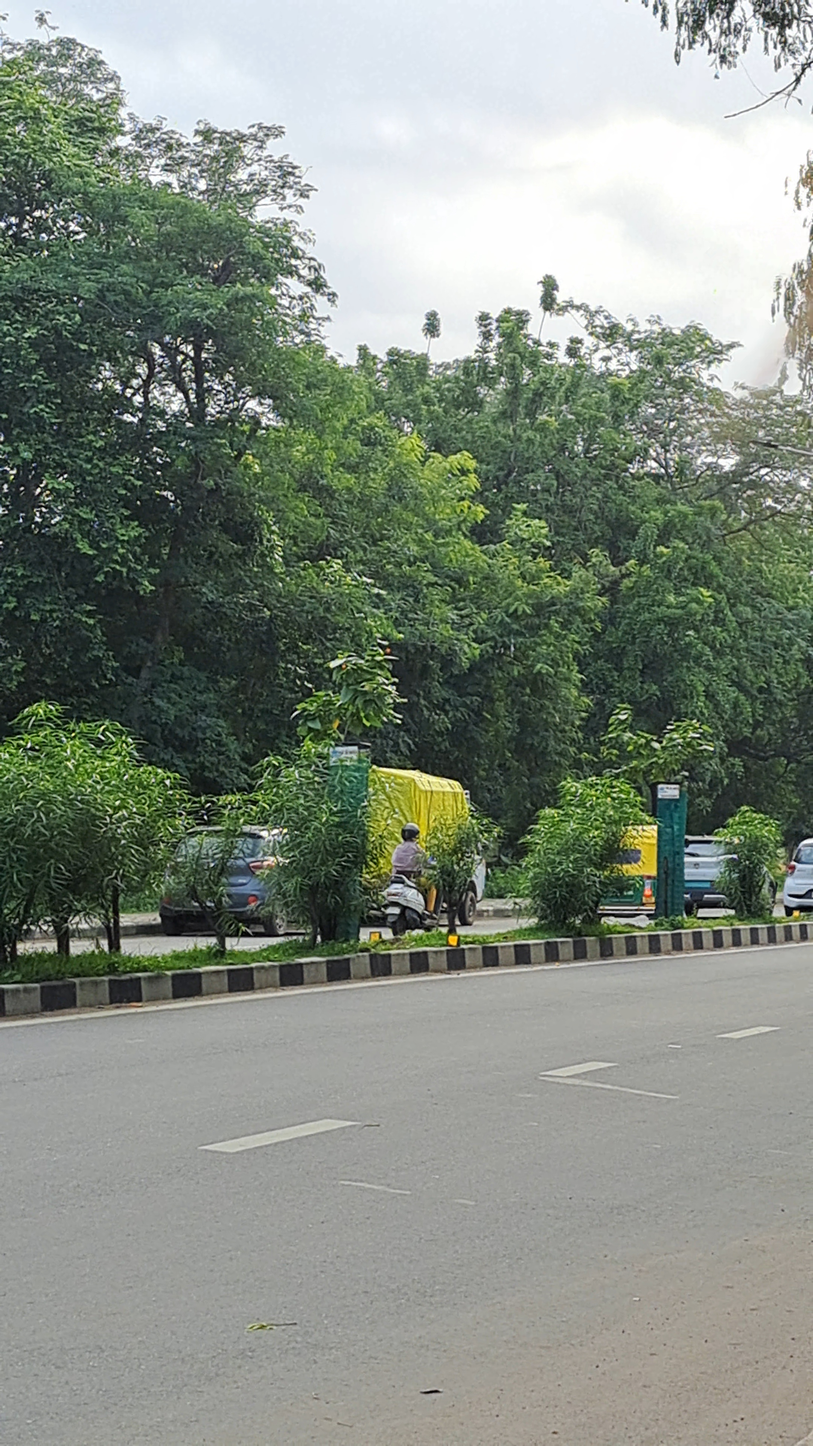BikeWithRider: (370, 814, 443, 942)
Helmet: (397, 817, 423, 845)
